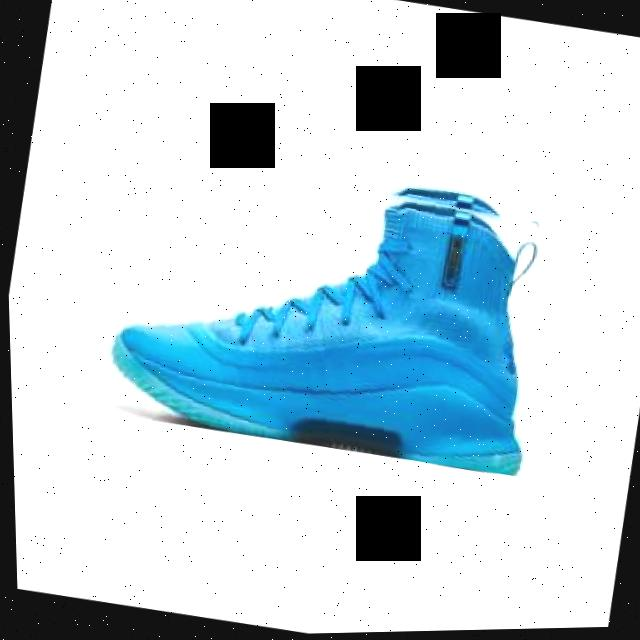shoe: (93, 135, 564, 486)
